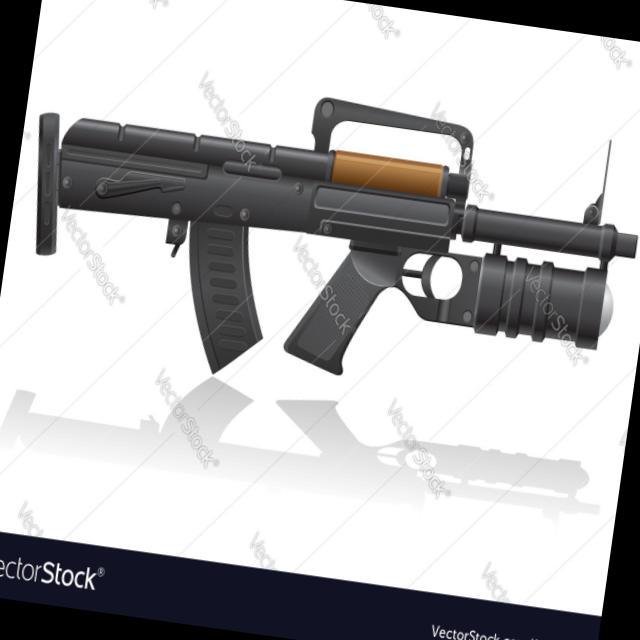Weapon: (5, 45, 640, 443)
